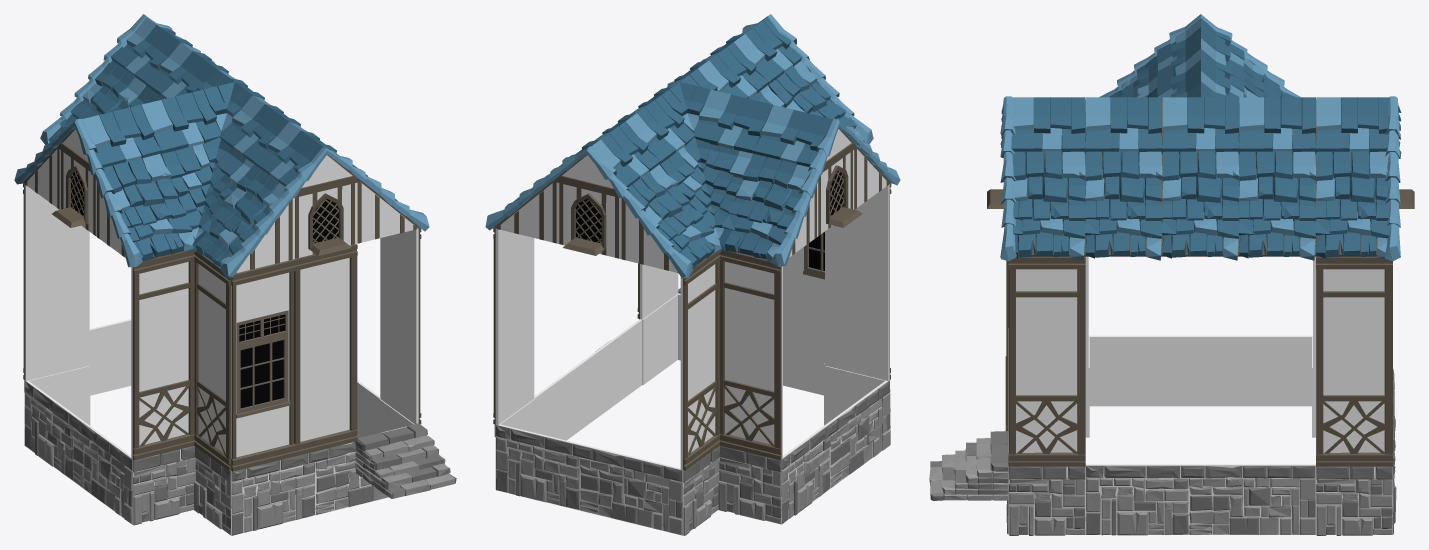
File: house_05_parts.fbx
The picture shows the model from 3 angles, left to right: view 1: azimuth 30°, elevation 25°; view 2: azimuth 150°, elevation 25°; view 3: azimuth 270°, elevation 25°; orthographic projection. The views are drawn at different scales.
Visible parts, largest first — view 1: WALL_04_4, WALL_03_3, WINDOW_04_3, WALL_04_5, FOUNDATION_02_10, FOUNDATION_02_11, WALL_04_3, WALL_04_8, ROOF_base_6, STAIRS_01_6, ROOF_inner_corner_3, ROOF_base_5 (+27 smaller); view 2: FOUNDATION_02_12, WALL_04_5, WALL_04_4, WALL_04_6, WALL_04_7, FOUNDATION_02_11, FOUNDATION_02_13, ROOF_base_11, ROOF_inner_corner_4, ROOF_base_10, FOUNDATION_03_8, ROOF_triangle_window_grid_8 (+28 smaller); view 3: FOUNDATION_02_13, WALL_04_8, WALL_04_7, FOUNDATION_02_11, ROOF_base_7, ROOF_base_4, ROOF_base_8, ROOF_base_9, ROOF_base_3, FOUNDATION_03_11, FOUNDATION_03_10, STAIRS_01_6 (+15 smaller).
Boxes of the visible parts, bbox=[...] form: WALL_04_4: bbox=[131, 251, 194, 460]; WALL_03_3: bbox=[294, 244, 357, 456]; WINDOW_04_3: bbox=[231, 259, 295, 471]; WALL_04_5: bbox=[23, 183, 88, 381]; FOUNDATION_02_10: bbox=[231, 426, 406, 535]; FOUNDATION_02_11: bbox=[24, 380, 133, 524]; WALL_04_3: bbox=[194, 251, 231, 470]; WALL_04_8: bbox=[380, 227, 421, 424]; ROOF_base_6: bbox=[103, 154, 195, 262]; STAIRS_01_6: bbox=[355, 423, 456, 498]; ROOF_inner_corner_3: bbox=[161, 137, 253, 239]; ROOF_base_5: bbox=[192, 164, 286, 268]; FOUNDATION_02_12: bbox=[495, 424, 683, 535]; WALL_04_5: bbox=[719, 250, 782, 459]; WALL_04_4: bbox=[826, 183, 891, 380]; WALL_04_6: bbox=[680, 252, 720, 470]; WALL_04_7: bbox=[493, 227, 534, 424]; FOUNDATION_02_11: bbox=[781, 380, 890, 523]; FOUNDATION_02_13: bbox=[534, 319, 642, 440]; ROOF_base_11: bbox=[719, 153, 811, 264]; ROOF_inner_corner_4: bbox=[660, 137, 752, 239]; ROOF_base_10: bbox=[628, 164, 721, 268]; FOUNDATION_03_8: bbox=[718, 445, 782, 524]; ROOF_triangle_window_grid_8: bbox=[558, 183, 620, 258]; FOUNDATION_02_13: bbox=[1085, 464, 1315, 535]; WALL_04_8: bbox=[1008, 256, 1085, 466]; WALL_04_7: bbox=[1316, 256, 1392, 466]; FOUNDATION_02_11: bbox=[1088, 335, 1311, 406]; ROOF_base_7: bbox=[1161, 151, 1239, 260]; ROOF_base_4: bbox=[1084, 150, 1162, 260]; ROOF_base_8: bbox=[1238, 151, 1316, 260]; ROOF_base_9: bbox=[1315, 151, 1390, 259]; ROOF_base_3: bbox=[1008, 151, 1085, 260]; FOUNDATION_03_11: bbox=[1008, 466, 1085, 535]; FOUNDATION_03_10: bbox=[1316, 466, 1392, 535]; STAIRS_01_6: bbox=[929, 431, 1008, 500].
Bounding box in the file's own units: 439 × 560 × 631.
